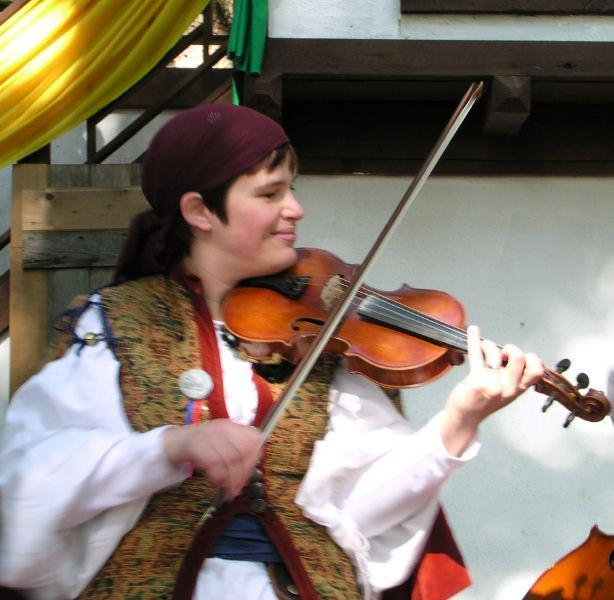person: (1, 105, 543, 598)
